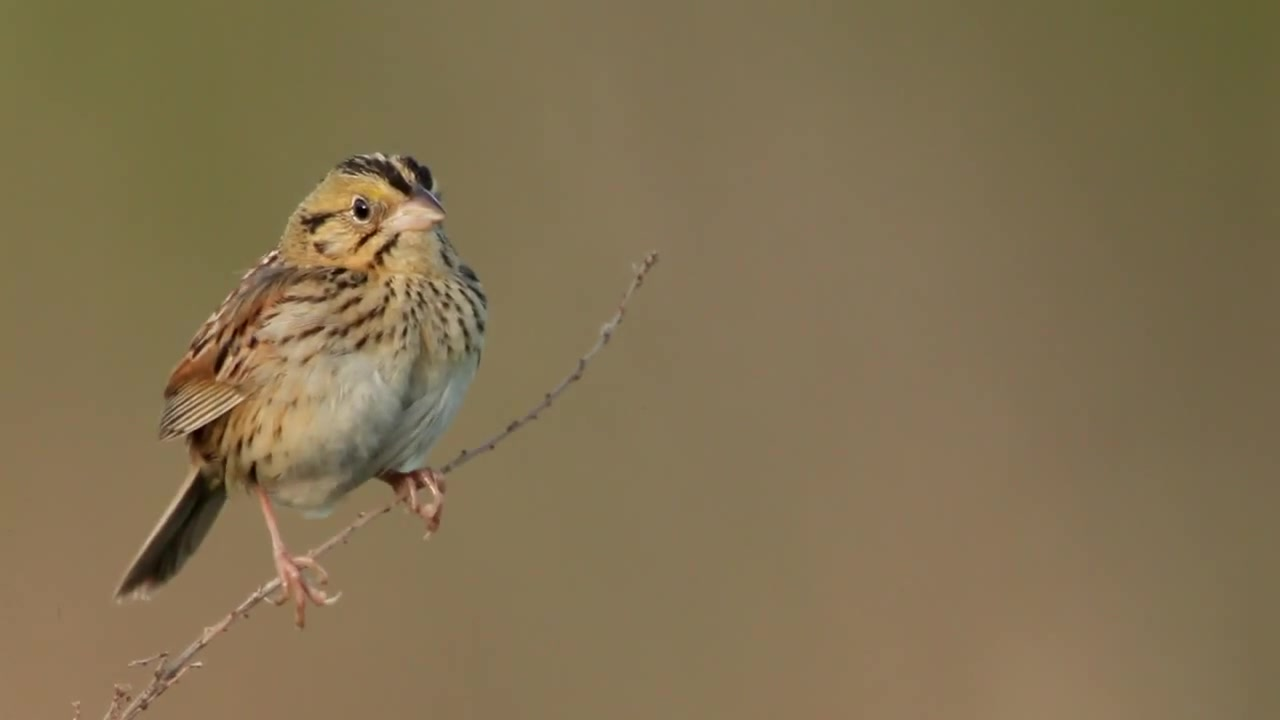bird: (112, 150, 491, 634)
